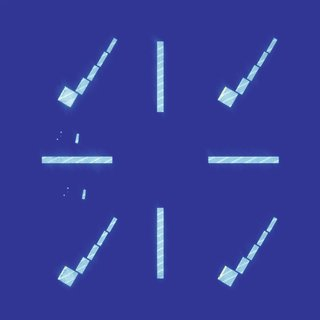overheated: (219, 266, 227, 278), (220, 88, 226, 97), (64, 266, 67, 269)
